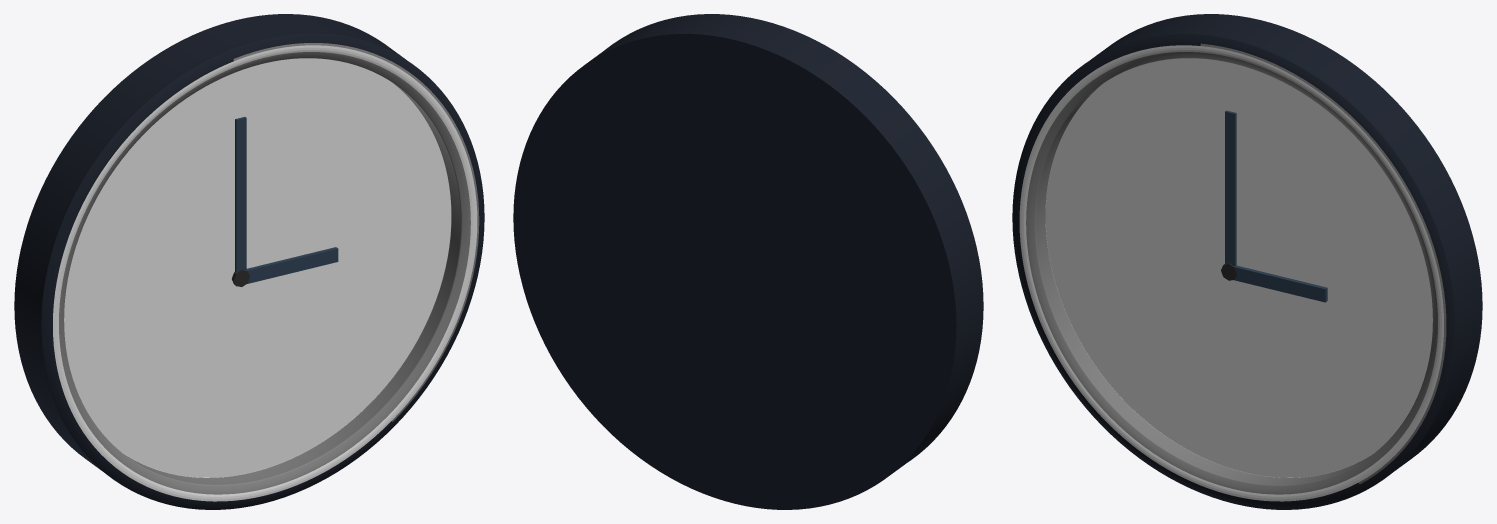
The model's file is SM_Env_WallClock.fbx.
The picture shows the model from 3 angles, left to right: view 1: azimuth 30°, elevation 25°; view 2: azimuth 150°, elevation 25°; view 3: azimuth 330°, elevation 25°; orthographic projection.
Visible parts, largest first — view 1: SM_Env_WallClock, SM_Env_Clock_Hand_Minute, SM_Env_Clock_Hand_Hour; view 2: SM_Env_WallClock; view 3: SM_Env_WallClock, SM_Env_Clock_Hand_Minute, SM_Env_Clock_Hand_Hour.
Part boxes in pixels (x1,y1,x2,y2): SM_Env_WallClock: (14,14,484,509); SM_Env_Clock_Hand_Minute: (235,117,246,272); SM_Env_Clock_Hand_Hour: (235,247,338,283); SM_Env_WallClock: (513,14,983,509); SM_Env_WallClock: (1012,14,1482,509); SM_Env_Clock_Hand_Minute: (1225,110,1236,266); SM_Env_Clock_Hand_Hour: (1224,264,1327,302).
Bounding box in the file's own units: 0.35 × 0.35 × 0.04.
